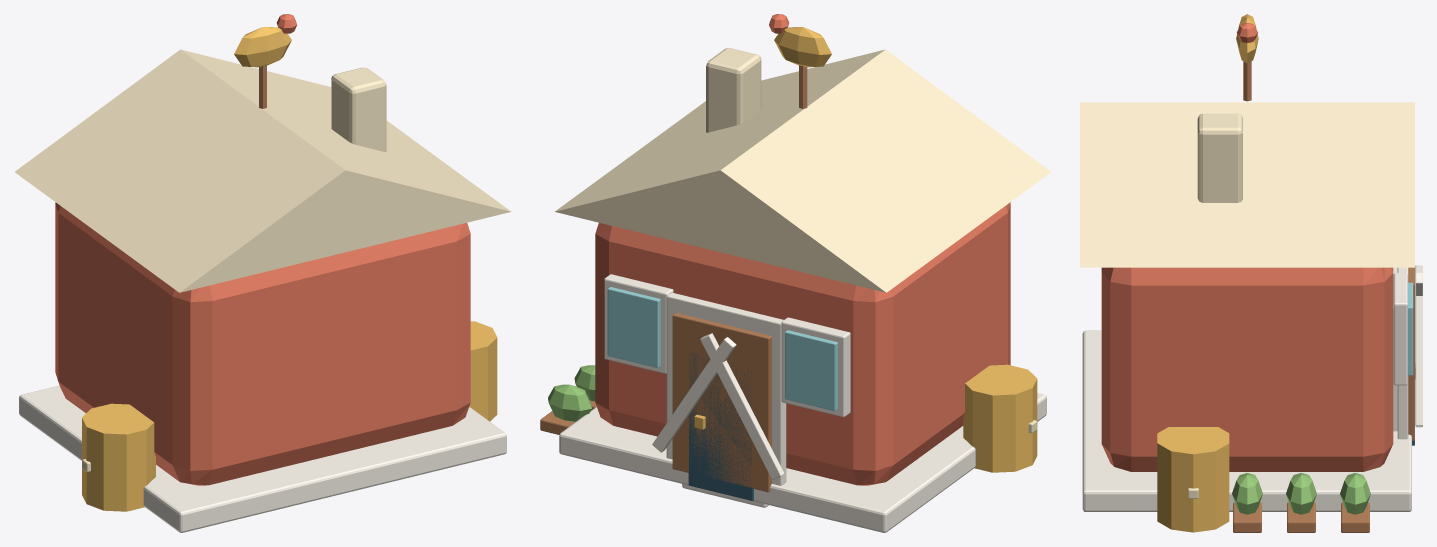
Rendered from farm.glb.
The picture shows the model from 3 angles, left to right: view 1: azimuth 30°, elevation 25°; view 2: azimuth 150°, elevation 25°; view 3: azimuth 270°, elevation 25°; orthographic projection.
Parts seen in each view (by area): view 1: farm; view 2: farm; view 3: farm.
Boxes of the visible parts, x1,y1,x2,y2 form: farm: (15,14,511,532); farm: (540,14,1050,532); farm: (1080,14,1422,532).
Bounding box in the file's own units: 4.45 × 4.36 × 3.17.
